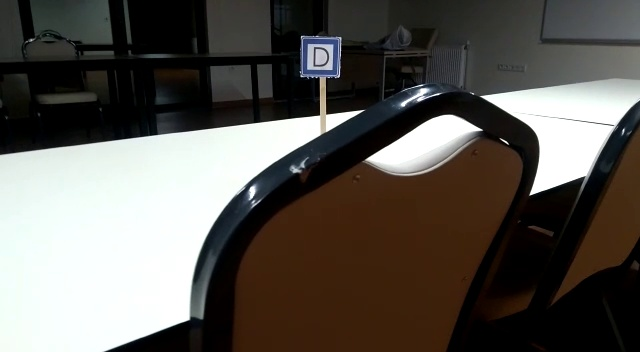durak: (301, 36, 340, 76)
